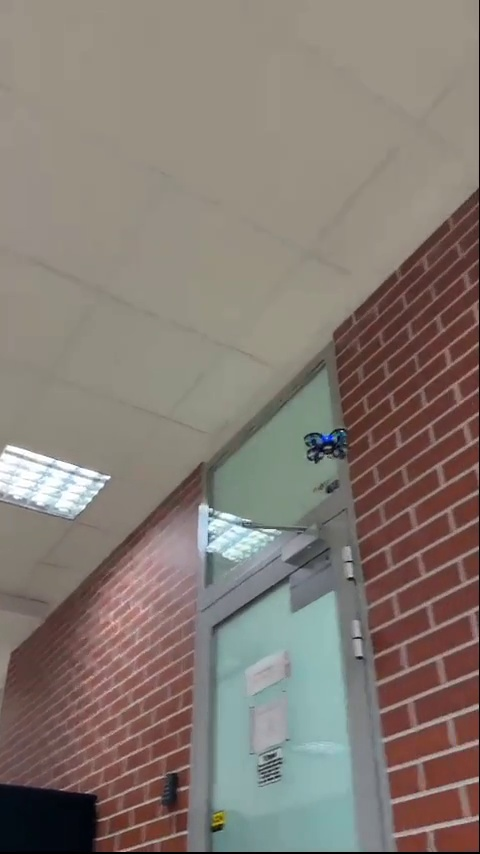drone: (301, 428, 351, 464)
